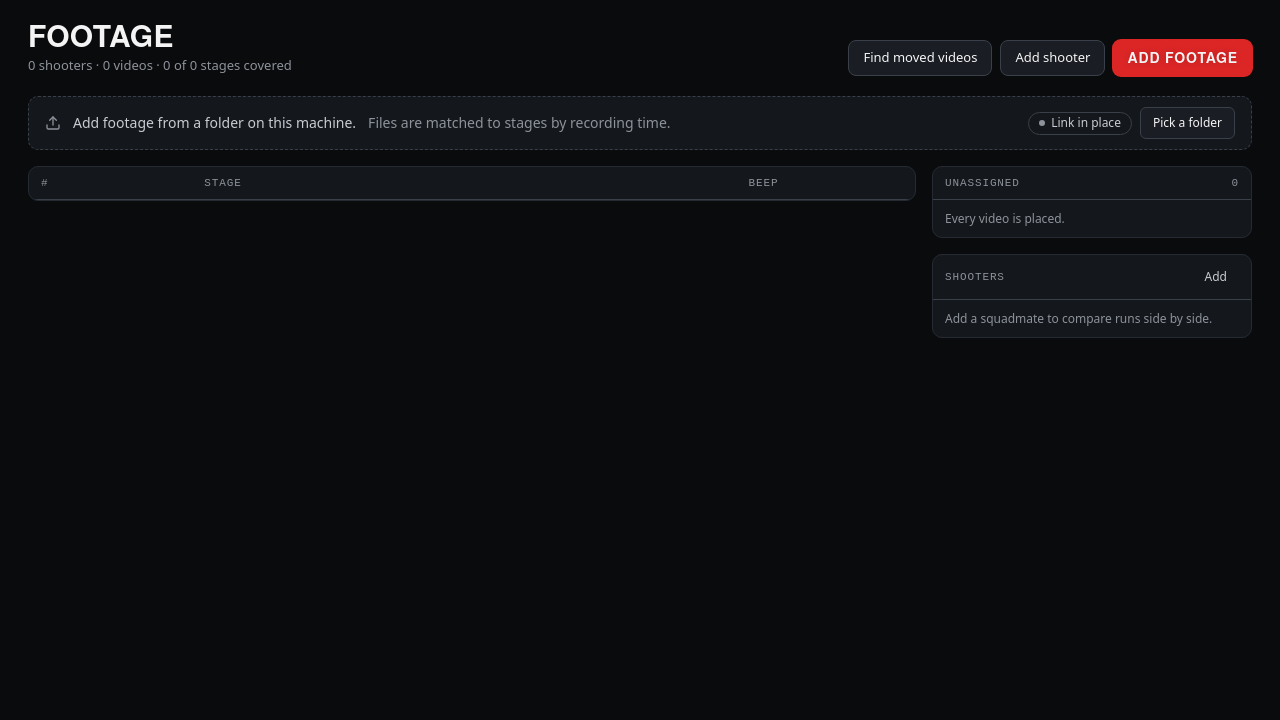
Test: Ingest add-footage (local) › says why each file was skipped, on the page after a partial import (#1227)
Click the button "Pick a folder".
click(1187, 122)  # box [1140, 106, 1235, 138]
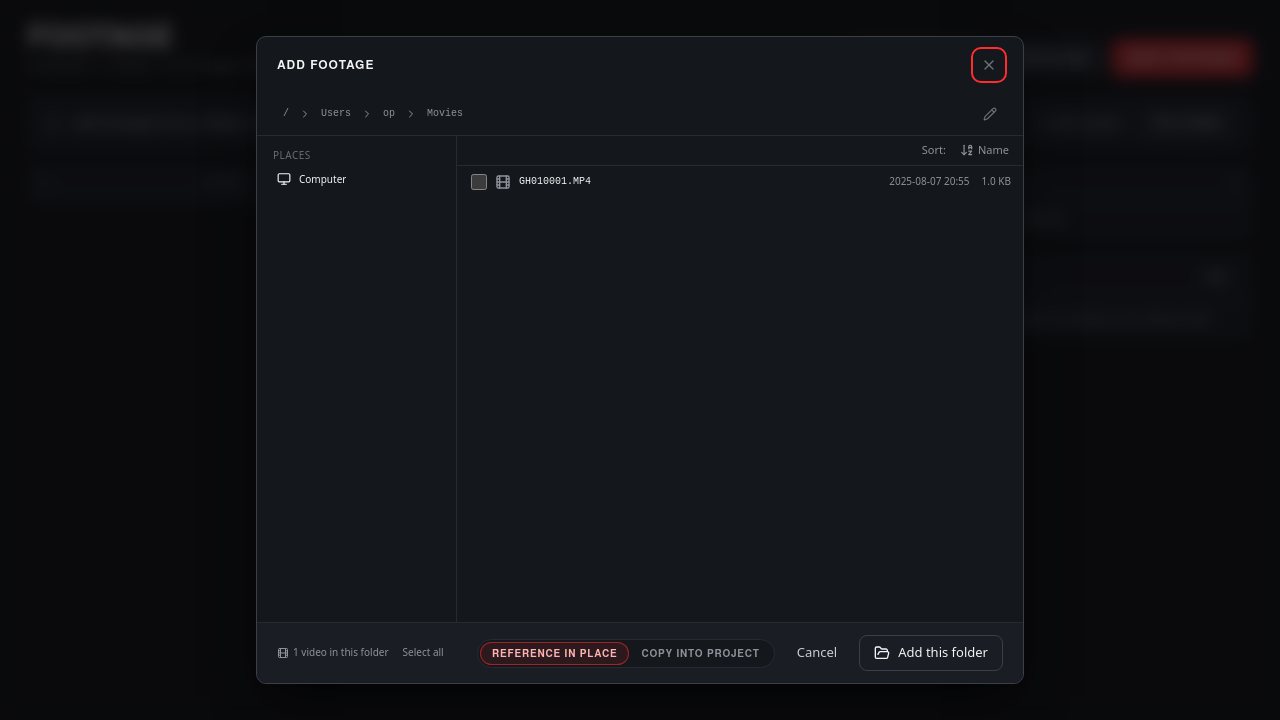
Click the button "Add this folder".
click(931, 653)  # box [859, 635, 1003, 671]
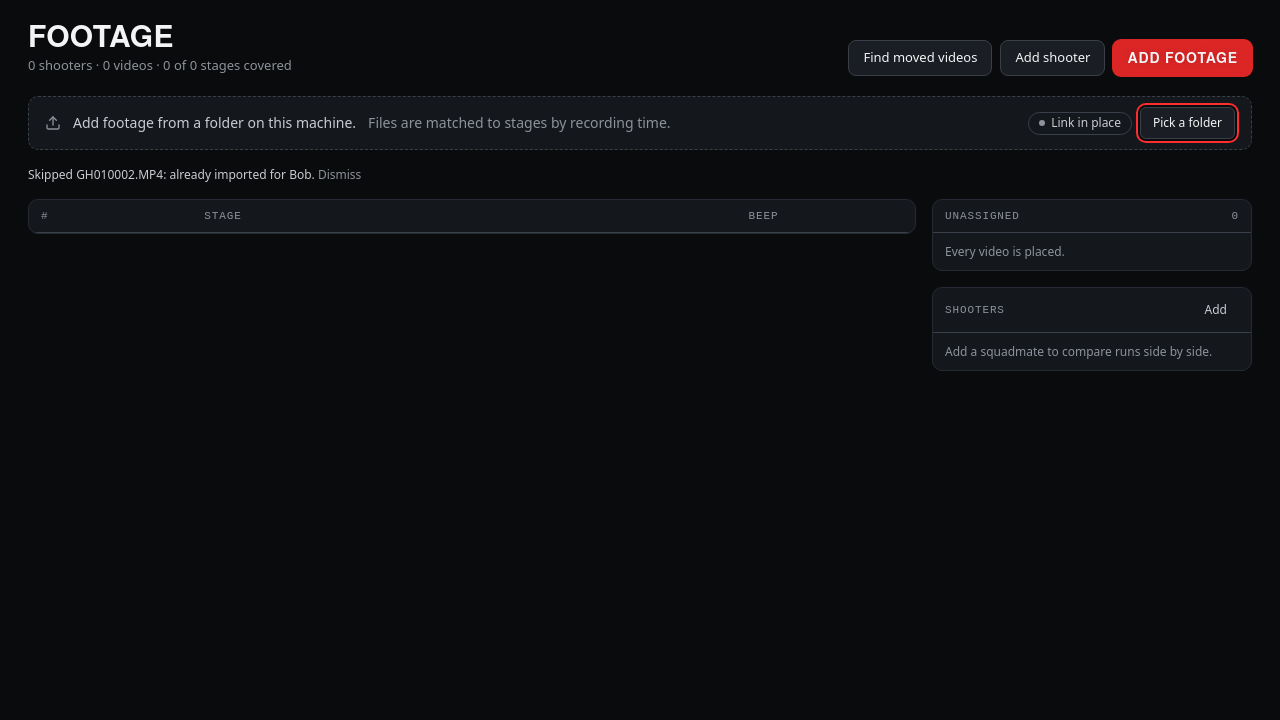
Click the button "Dismiss".
click(340, 174)  # box [318, 166, 361, 183]
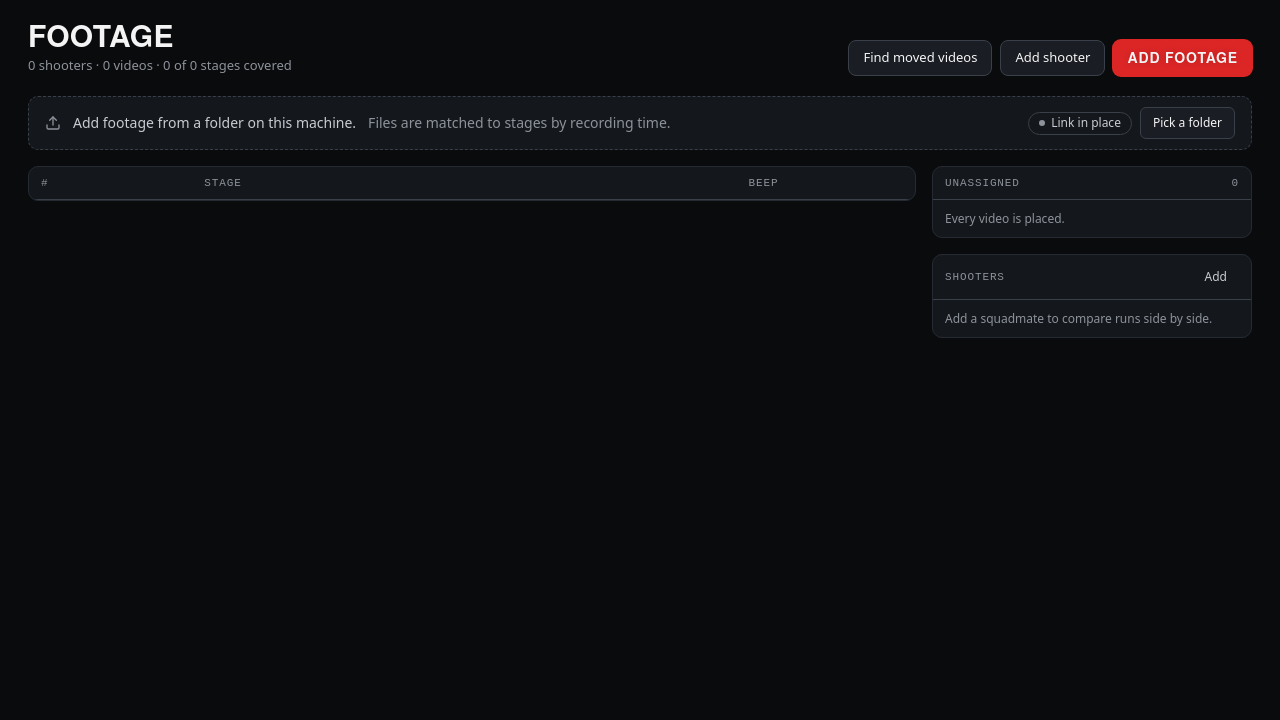
Check: the text "Skipped GH010002" is gone
